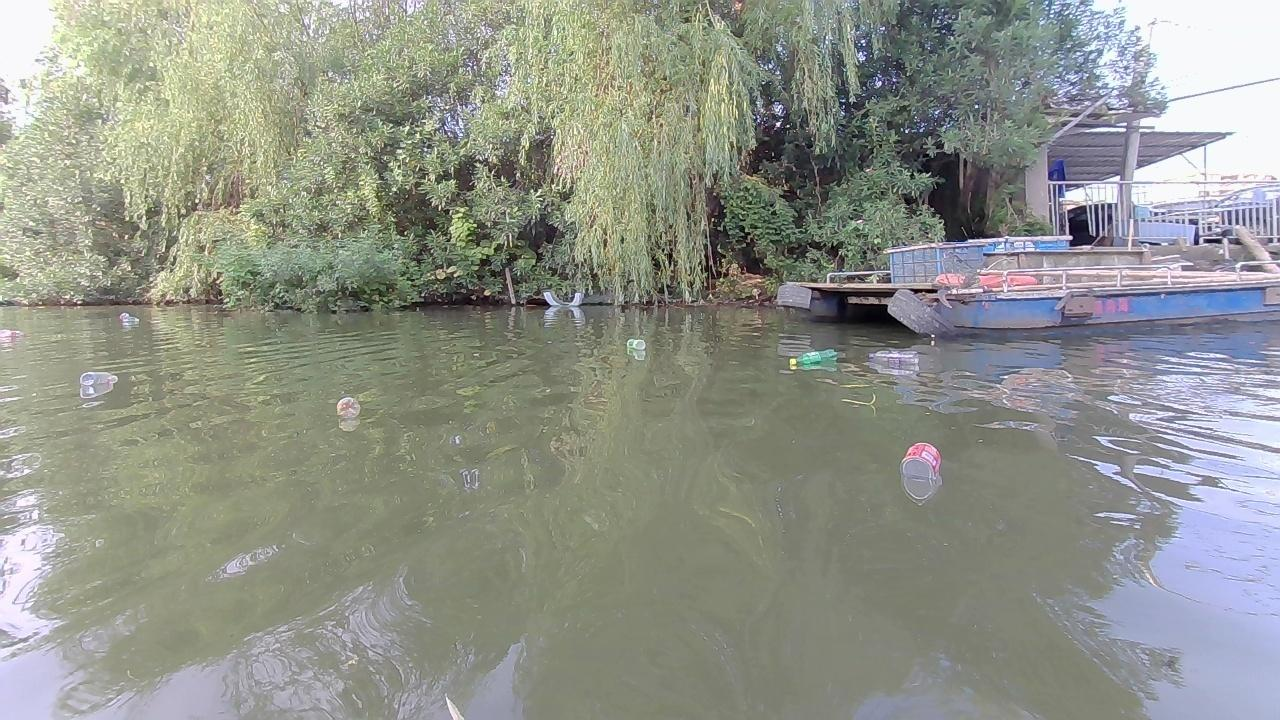bottle: (893, 436, 948, 490), (864, 345, 920, 367), (791, 345, 840, 369), (78, 368, 122, 387), (334, 395, 364, 416), (623, 337, 650, 351), (0, 324, 23, 338), (117, 310, 141, 323)
